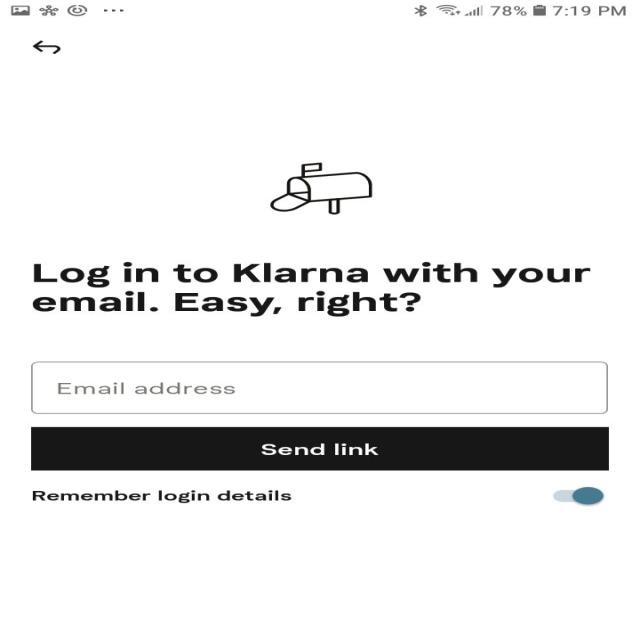EditText: (30, 361, 607, 414)
Icon: (32, 40, 60, 54)
Image: (270, 162, 372, 214)
Text: (31, 262, 590, 317), (32, 490, 292, 503), (58, 382, 234, 394)
TextButton: (30, 426, 608, 470)
